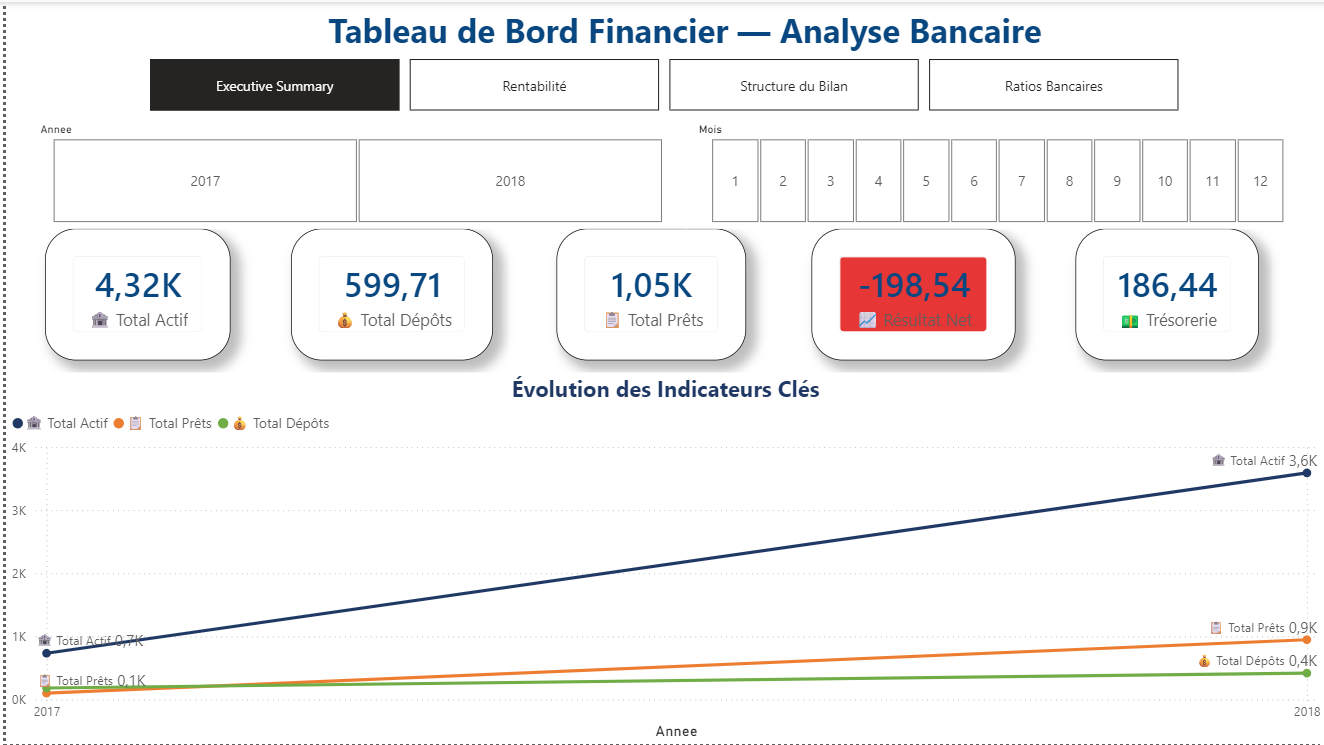

Layout of this report page (visuals, bound fields, positions):
{"tool":"powerbi","page":{"name":"Executive Summary","canvas":[1280,720],"ordinal":0},"visuals":[{"type":"textbox","box":[38,0,1242,112],"z":0},{"type":"cardVisual","fields":{"Data":["Indicateurs.Total actif"]},"box":[38,220,180,128],"z":1000},{"type":"cardVisual","fields":{"Data":["Indicateurs.Total_Depots"]},"box":[276,220,196,128],"z":2000},{"type":"cardVisual","fields":{"Data":["Indicateurs.Total_Pret"]},"box":[534,220,184,128],"z":3000},{"type":"cardVisual","fields":{"Data":["Indicateurs.RNet"]},"box":[782,220,198,128],"z":4000},{"type":"cardVisual","fields":{"Data":["Indicateurs.Trésorie"]},"box":[1038,220,178,128],"z":5000},{"type":"lineChart","title":"Évolution des Indicateurs Clés","fields":{"Category":["Dim_date.Annee"],"Y":["Indicateurs.🏦 Total Actif","Indicateurs.📋 Total Prêts","Indicateurs.💰 Total Dépôts"]},"box":[0,360,1280,360],"z":6000},{"type":"slicer","fields":{"Values":["Dim_date.Annee"]},"box":[20,112,640,108],"z":7000},{"type":"slicer","fields":{"Values":["Dim_date.Mois"]},"box":[660,112,604,108],"z":8000},{"type":"pageNavigator","box":[140,56,1000,50],"z":9000}]}

Visuals, with their boxes in screenshot pixels (x1, y1, x2, y2), scaled from the page's 1280x720 canvas onto the 1324x745 screenshot:
textbox: (39,0,1323,116)
cardVisual - Indicateurs.Total actif: (39,228,225,360)
cardVisual - Indicateurs.Total_Depots: (285,228,488,360)
cardVisual - Indicateurs.Total_Pret: (552,228,743,360)
cardVisual - Indicateurs.RNet: (809,228,1014,360)
cardVisual - Indicateurs.Trésorie: (1074,228,1258,360)
"Évolution des Indicateurs Clés" lineChart: (0,373,1323,744)
slicer - Dim_date.Annee: (21,116,683,228)
slicer - Dim_date.Mois: (683,116,1307,228)
pageNavigator: (145,58,1179,110)
